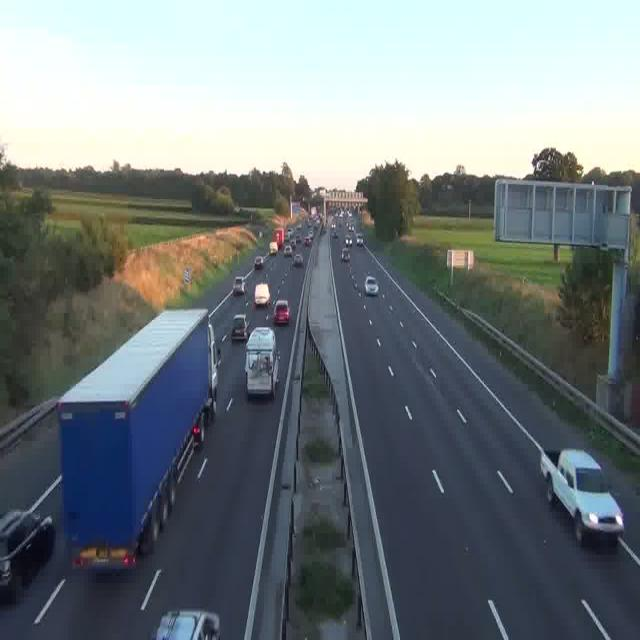bus: (273, 225, 286, 252)
car: (542, 447, 624, 546), (0, 509, 56, 602), (154, 610, 220, 639), (230, 314, 248, 341), (272, 300, 290, 324), (364, 276, 379, 296), (233, 275, 247, 294), (292, 252, 304, 266), (268, 239, 278, 254), (254, 254, 264, 268), (341, 247, 350, 262), (283, 249, 293, 262), (356, 234, 364, 245), (304, 234, 312, 245), (332, 227, 338, 238)
truck: (58, 309, 222, 570), (244, 328, 278, 397)
